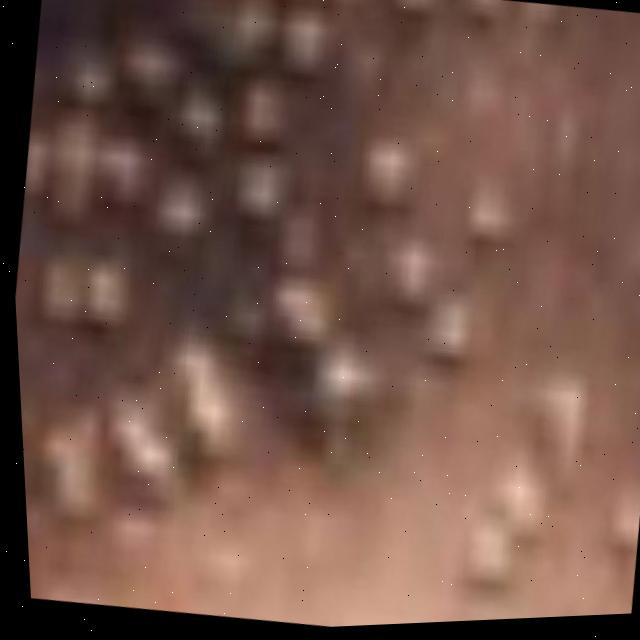Eczema: (25, 0, 613, 496)
